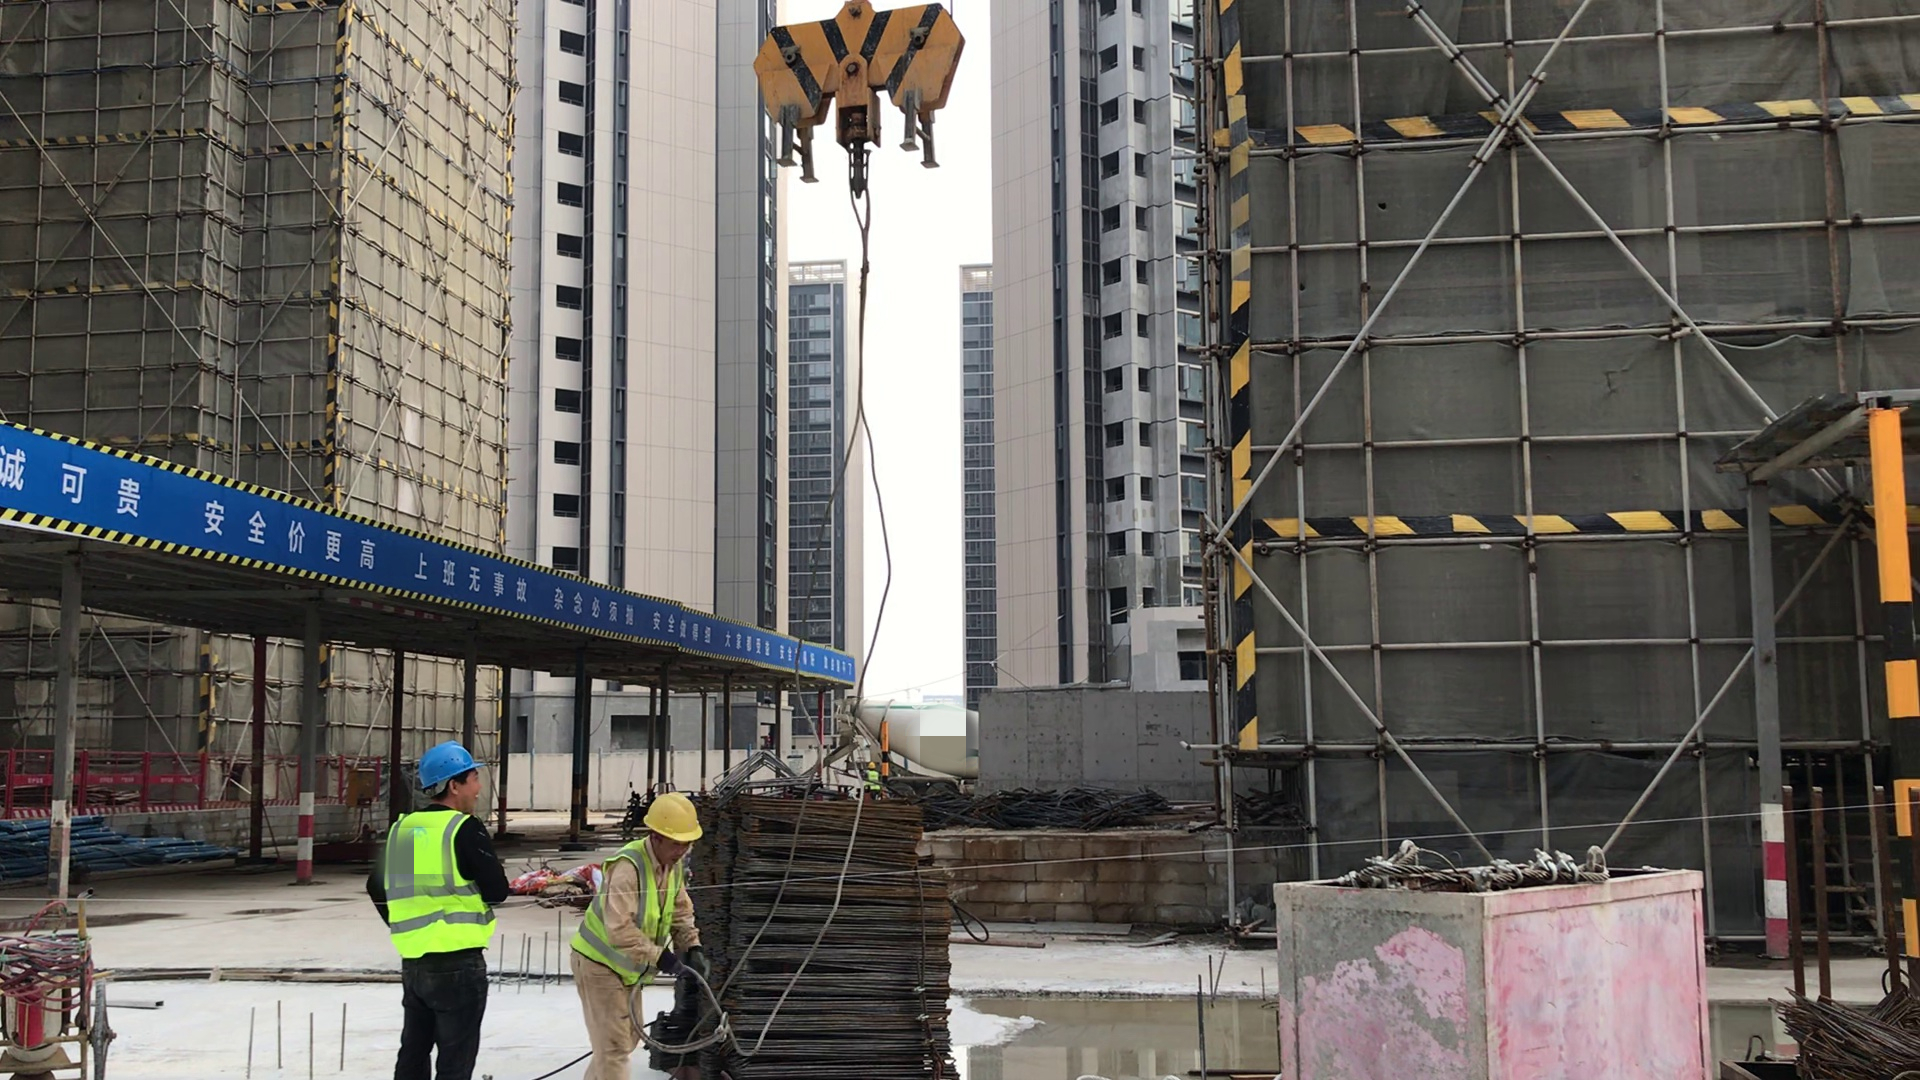ebox: (348, 766, 377, 810)
fence: (1, 752, 367, 819)
helmet: (643, 791, 702, 842), (413, 745, 481, 789), (865, 760, 878, 771)
hook: (748, 1, 967, 219)
person: (377, 742, 514, 1080), (571, 785, 703, 1078), (861, 760, 882, 794)
slogan: (406, 547, 639, 633), (652, 599, 861, 683), (194, 491, 394, 574), (6, 436, 150, 531)
vest: (388, 810, 495, 954), (575, 842, 672, 981), (866, 770, 881, 789)
